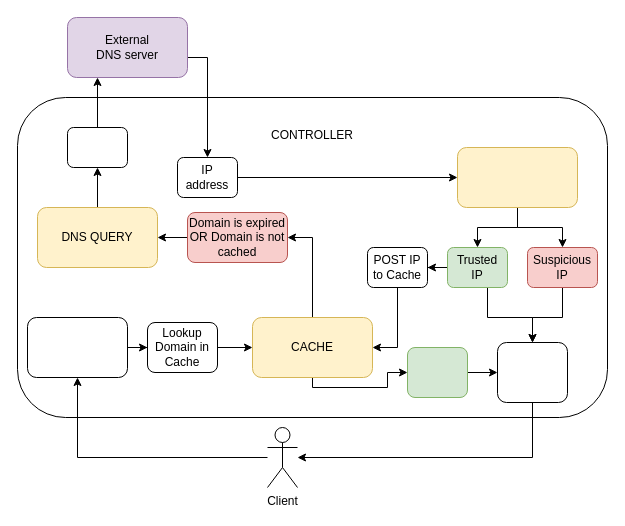
Image size: 625x526. Some labels were removed from this diagram. Here are the shapes that lost their labels. From the top down, the box of each, then its label:
(66, 126, 128, 168): Domain
(456, 146, 578, 208): FILTER
(26, 316, 128, 378): Domain Request Lookup
(406, 346, 468, 398): Domain is cached
(496, 342, 568, 402): Response
